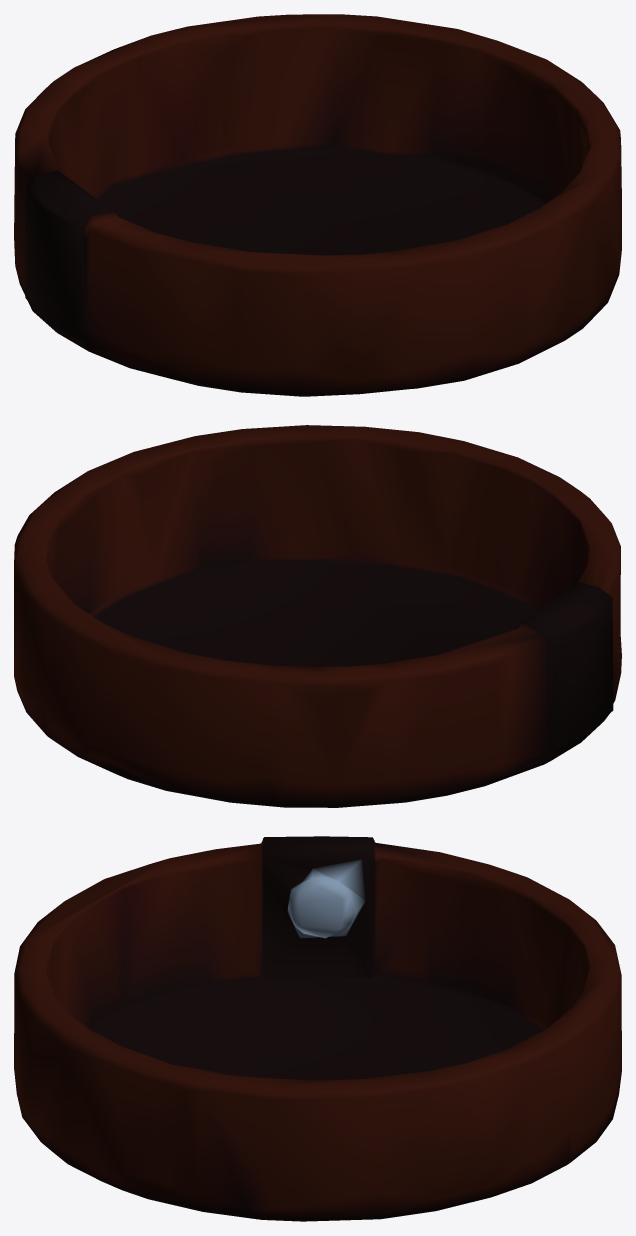
Rendered from gen3d-leather-belt-lod1.glb.
3 views of the same model, one above another, from view 1: azimuth 30°, elevation 25°; view 2: azimuth 150°, elevation 25°; view 3: azimuth 270°, elevation 25° (orthographic).
Parts seen in each view (by area): view 1: part_0; view 2: part_0; view 3: part_0.
Part boxes in pixels (x1,y1,x2,y2): part_0: (14,14,621,396); part_0: (14,425,621,807); part_0: (14,836,621,1221).
Size of the model in its own units: 4.03 by 0.9968 by 3.97.
